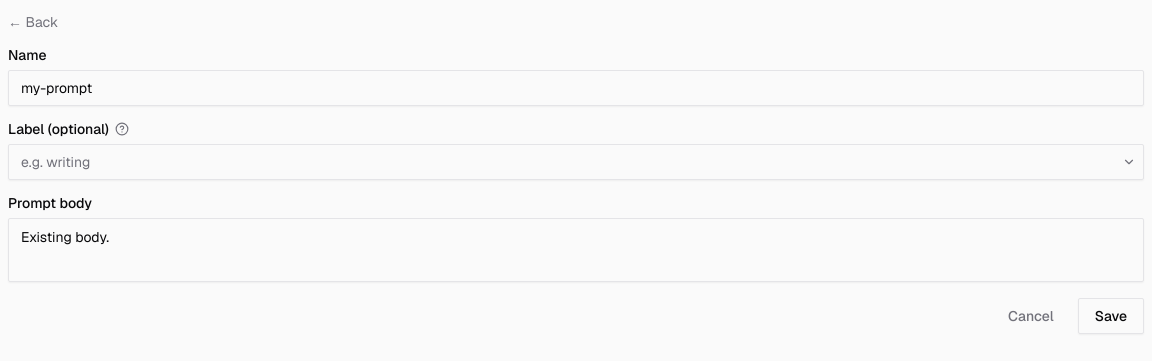
Test: PromptForm › should show discard confirmation at bottom when Cancel is clicked on dirty form
Type " extra" into the text box labelled "Prompt body" at (576, 250), box [8,218,1144,282]
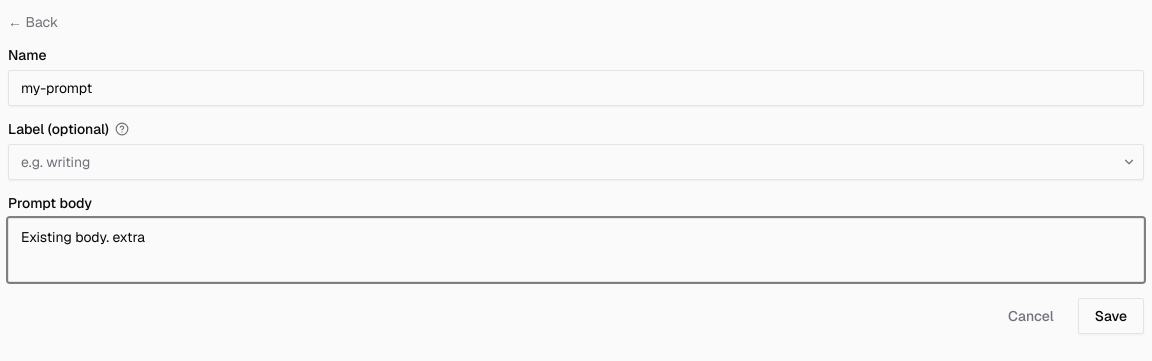
Click the button "Cancel" at (1031, 316), box [992,298,1070,334]
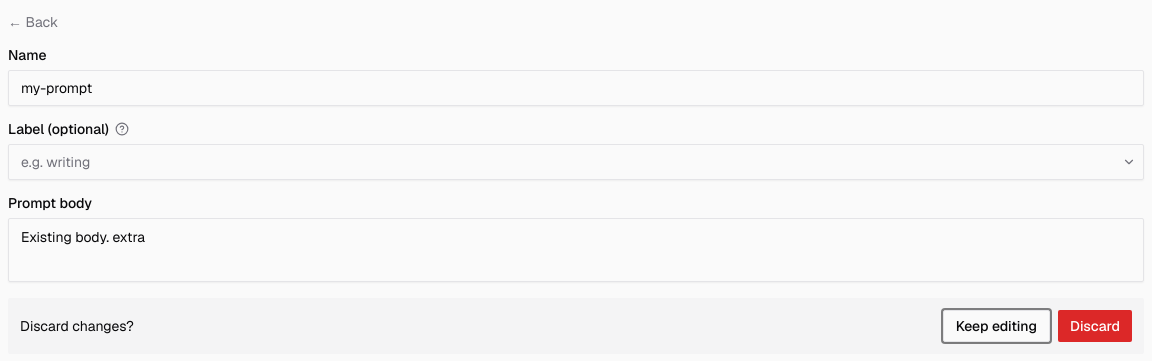
Expected: the text "Discard changes?" is shown, [20,316,134,336]
Expected: the button "Keep editing" is shown, [943,310,1050,342]
Expected: the button "Discard" is shown, [1058,310,1132,342]
